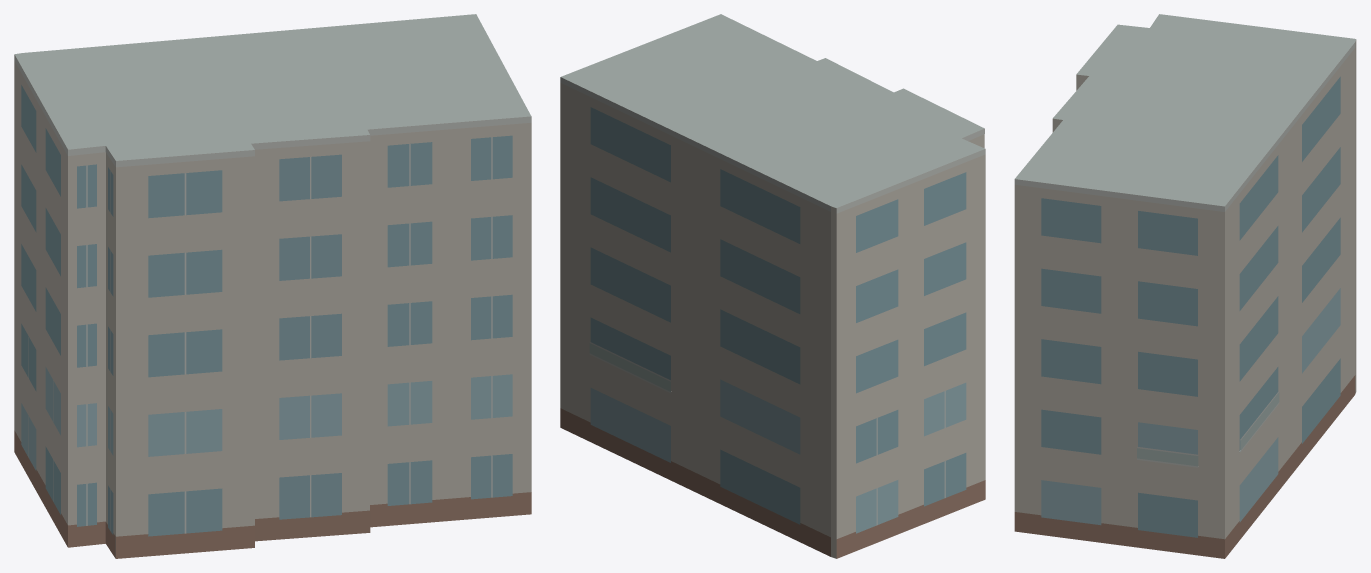
Rendered from survey-upis-32710876.glb.
3 views of the same model, side by side, from view 1: azimuth 30°, elevation 25°; view 2: azimuth 150°, elevation 25°; view 3: azimuth 270°, elevation 25° (orthographic). The views are drawn at different scales.
Parts seen in each view (by area): view 1: survey-upis-32710876.tmp; view 2: survey-upis-32710876.tmp; view 3: survey-upis-32710876.tmp.
Part boxes in pixels (x1=…): survey-upis-32710876.tmp: x1=14, y1=14, x2=531, y2=558; survey-upis-32710876.tmp: x1=560, y1=14, x2=985, y2=558; survey-upis-32710876.tmp: x1=1014, y1=14, x2=1356, y2=558.
Bounding box in the file's own units: 17.93 × 15.3 × 13.46.
